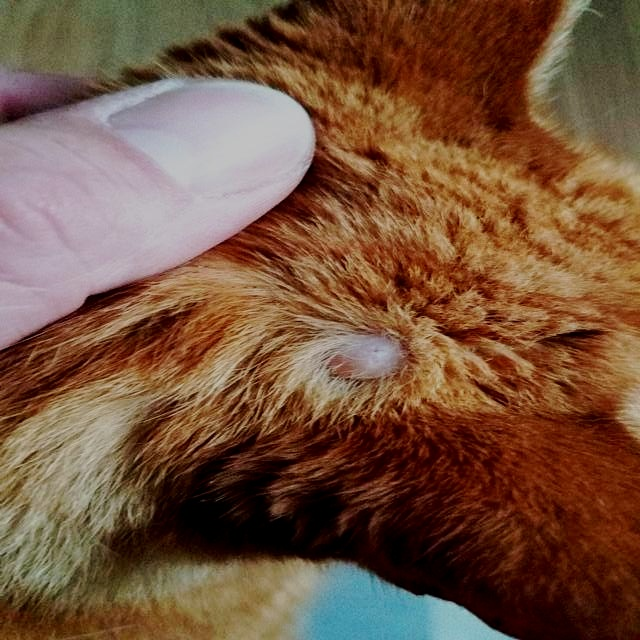lump_and_bump: (320, 330, 409, 390)
